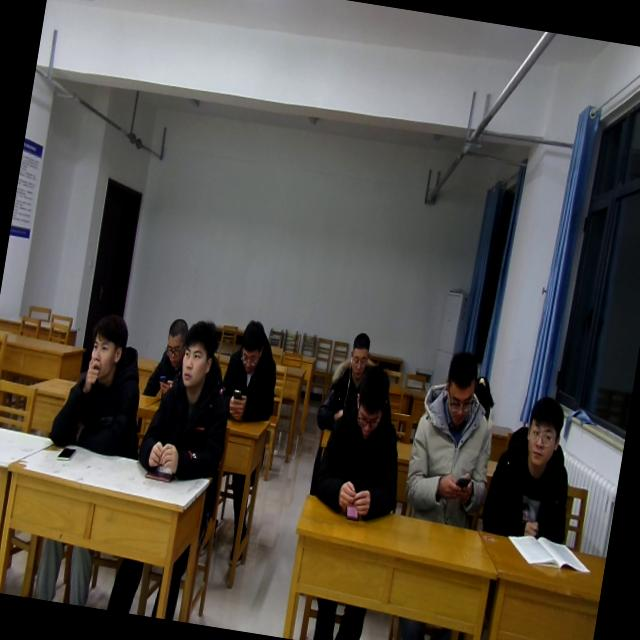bow: (216, 318, 286, 428)
down: (434, 343, 486, 440), (348, 362, 397, 444), (233, 312, 270, 376), (159, 312, 193, 370), (343, 327, 375, 379)
lookup: (516, 390, 570, 476), (79, 306, 134, 390), (176, 312, 227, 396)
sit: (398, 340, 509, 531), (134, 313, 244, 487), (308, 358, 418, 526), (480, 388, 590, 552), (46, 304, 158, 460), (314, 322, 379, 435), (138, 311, 194, 402)
